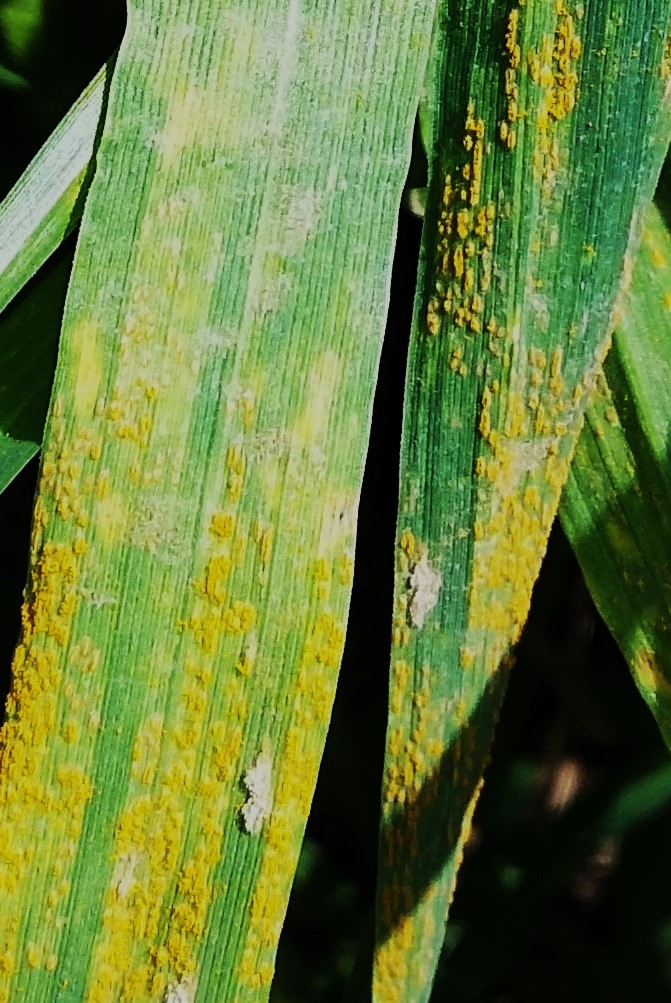Leaf Rust: (3, 443, 570, 1003)
